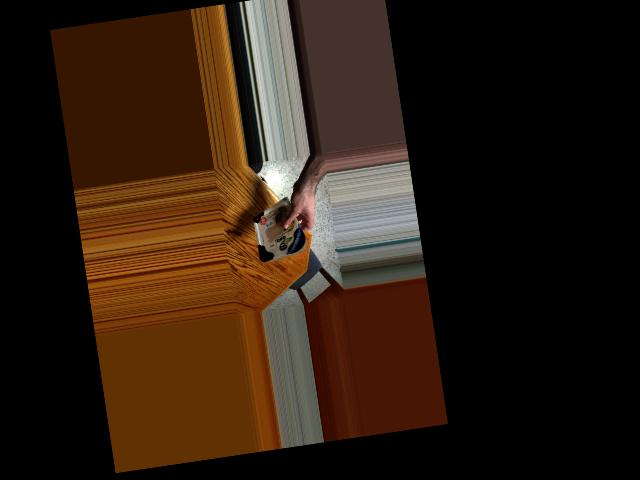cheese: (256, 200, 300, 263)
